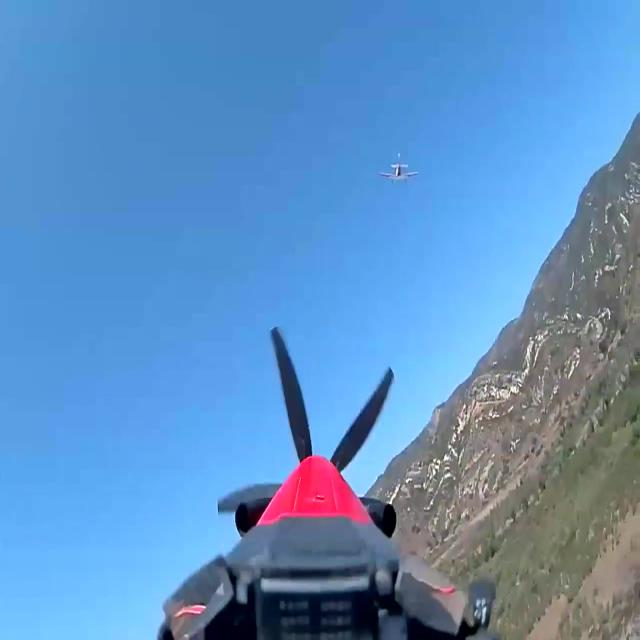iha: (379, 158, 419, 187)
